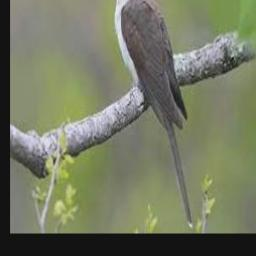Cuckoo: (106, 0, 194, 227)
